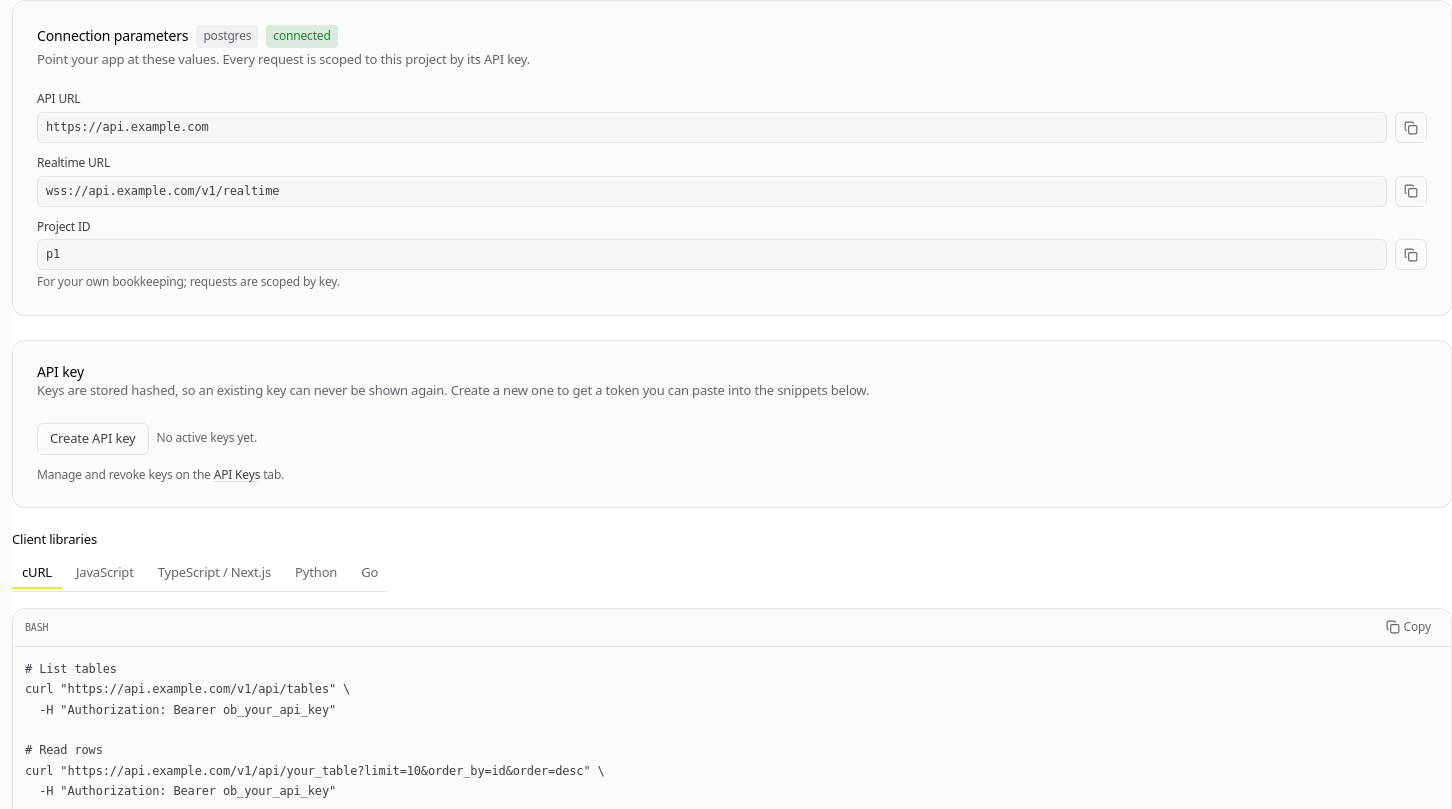
Test: ConnectPanel › creates a key and shows it once, inlined into snippets
The image size is (1452, 809).
Click the button "Create API key": click(93, 439) [37, 423, 148, 455]
(page scrolled)
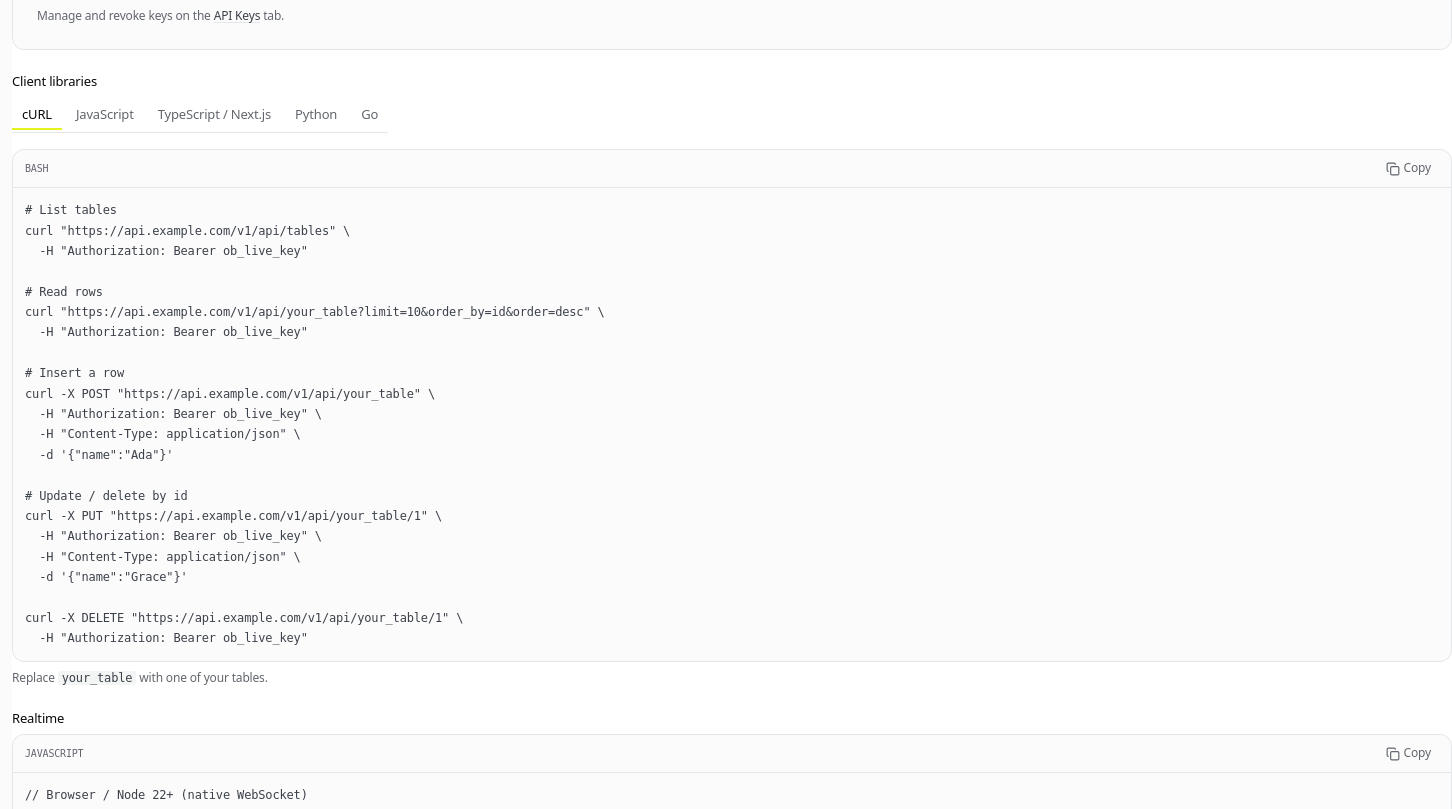
Expected: the panel shows "Bearer ob_live_key", [25, 203, 605, 645]
